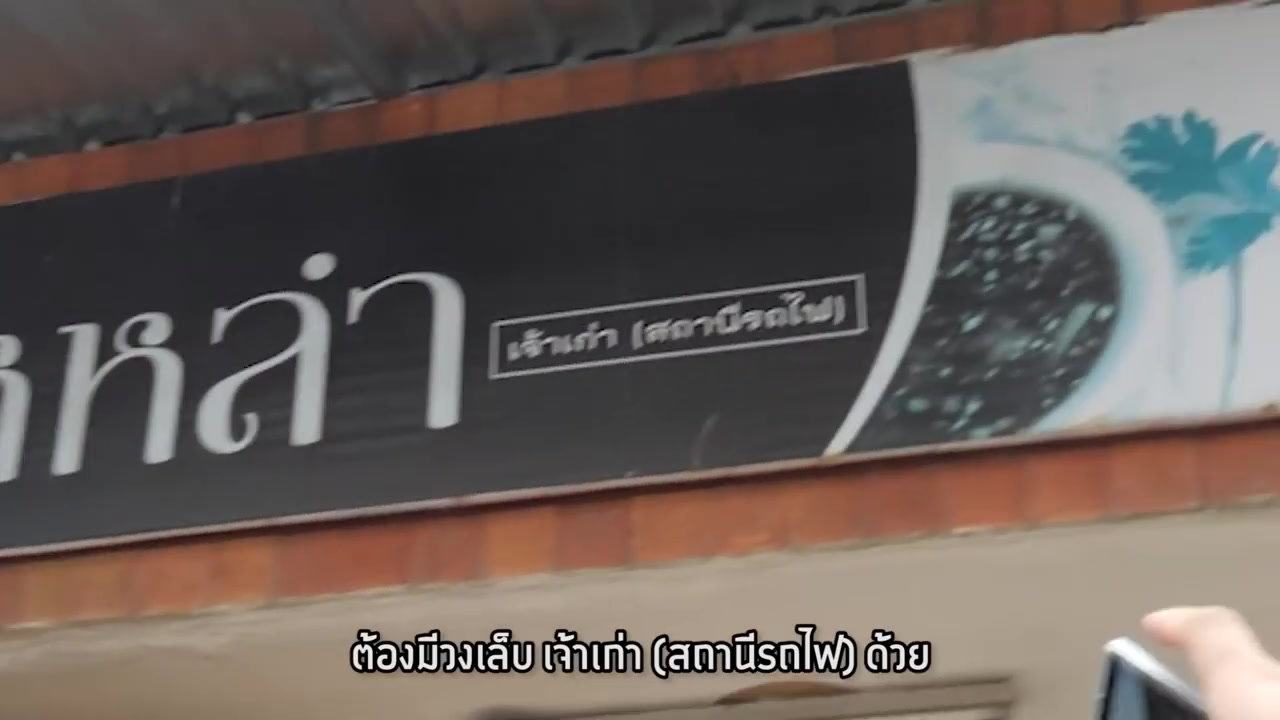text-label: (349, 623, 935, 684)
